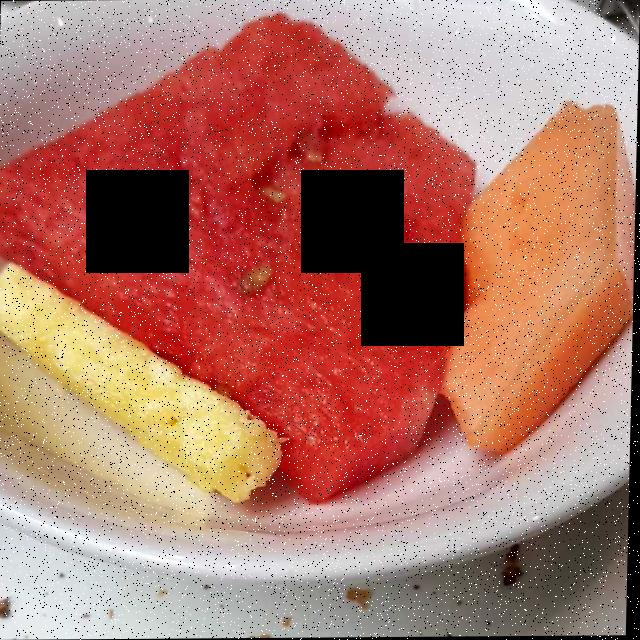pineapple: (0, 261, 291, 494)
sugar-melon: (451, 107, 629, 453)
watermelon-fresh: (3, 10, 464, 500)
